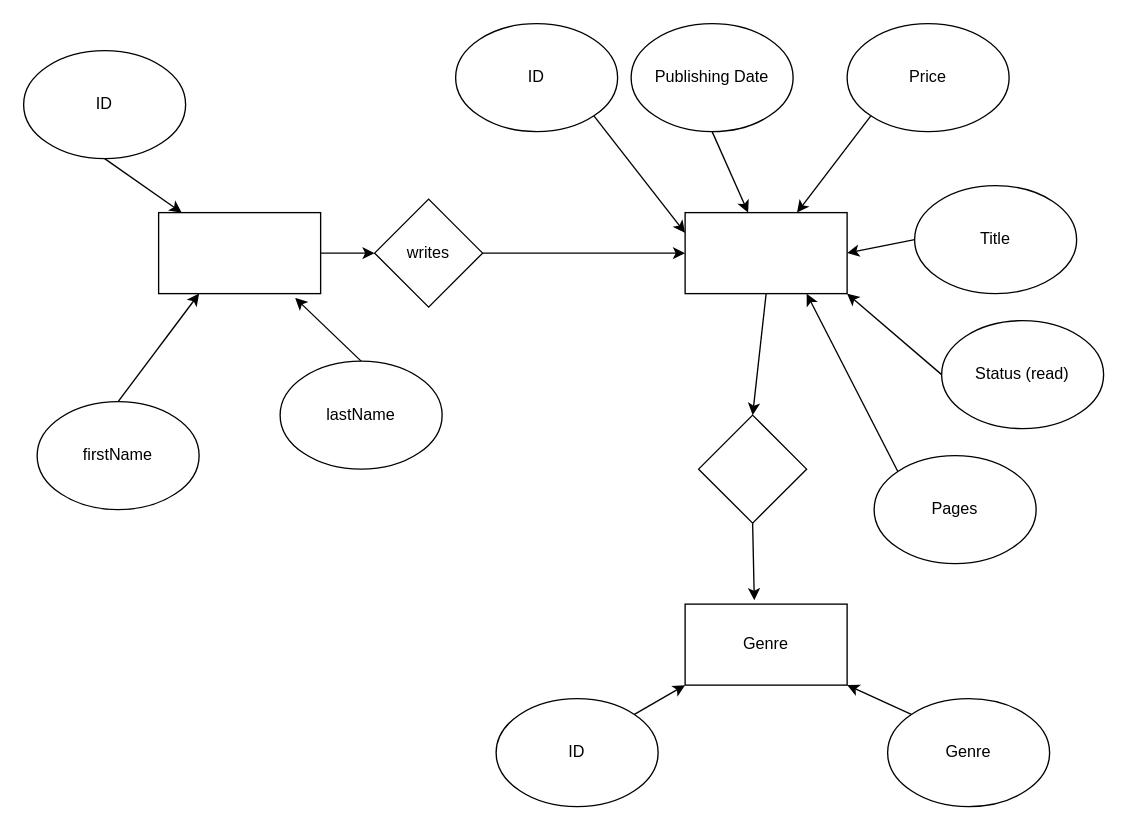
Image size: 1127x830. Some labels were removed from this diagram. Here are the shapes that lost their labels. From the top down, the centre of each, then its label:
At point (239, 252): "Author".
At point (765, 252): "Book".
At point (752, 468): "has".
